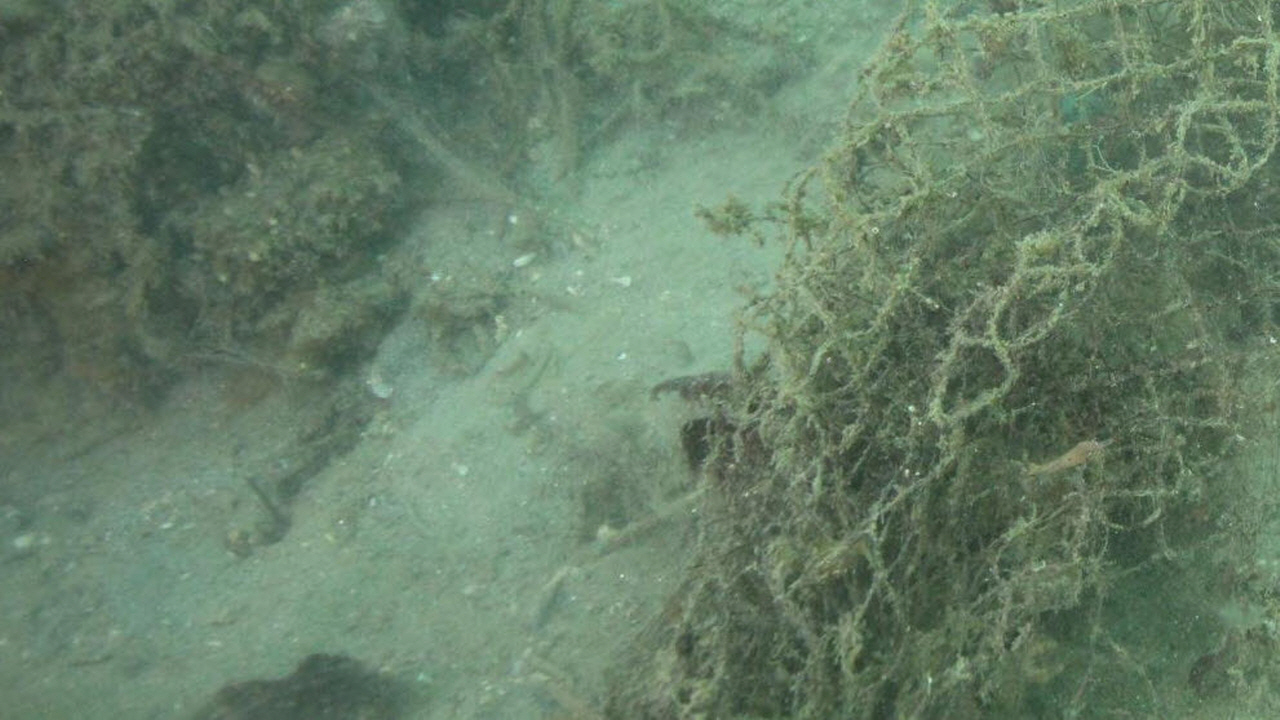fish net: (664, 0, 1280, 720)
